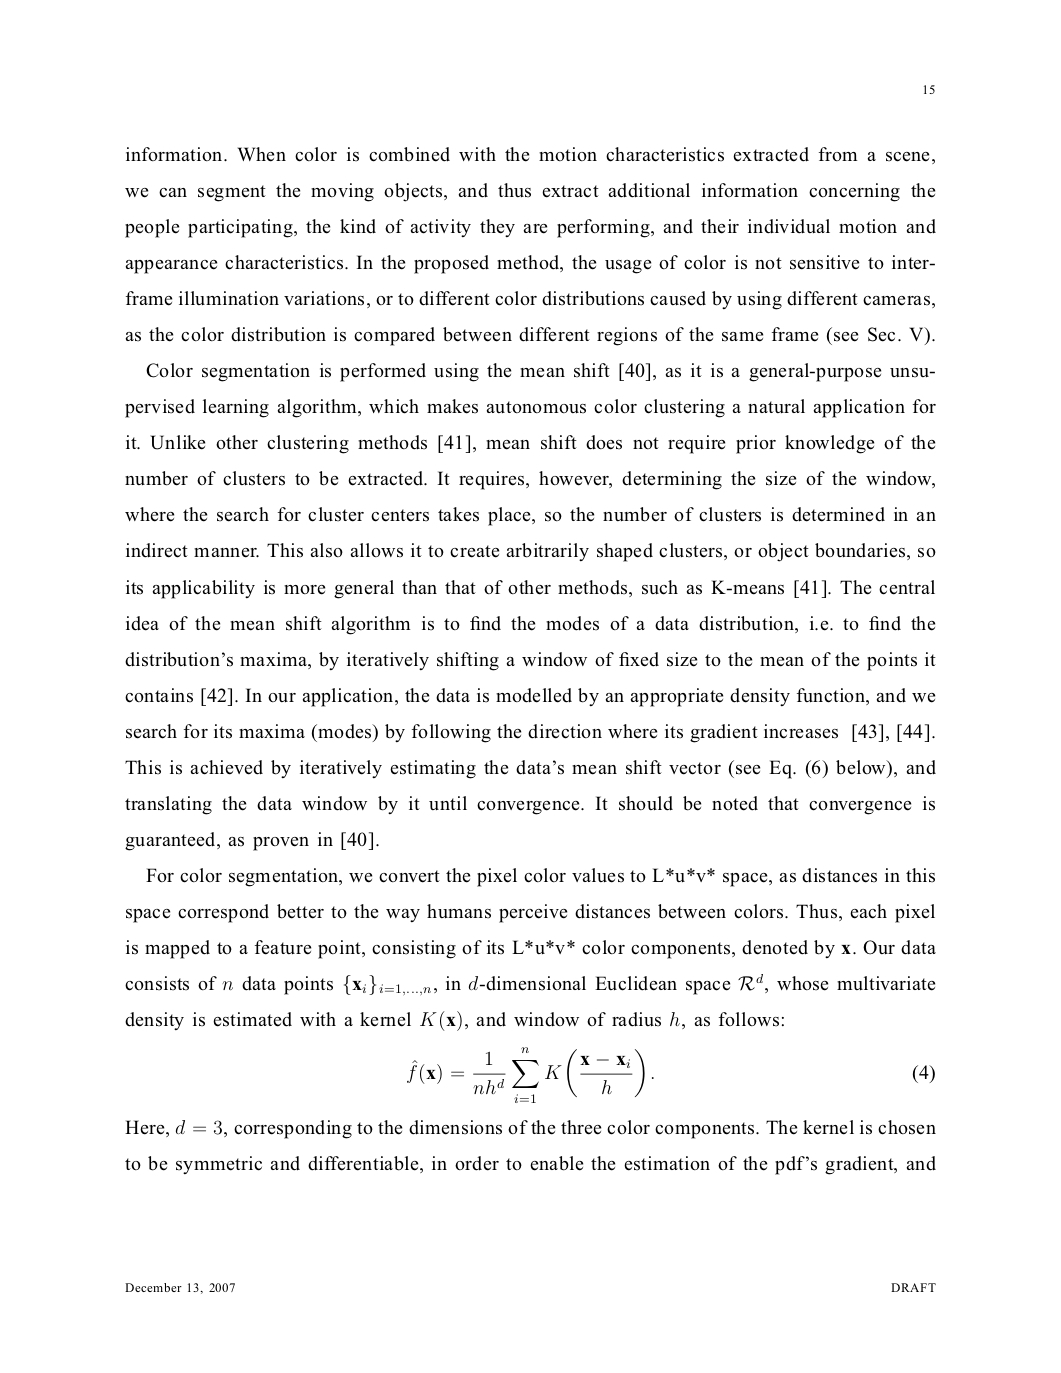formula: (407, 1046, 934, 1103)
